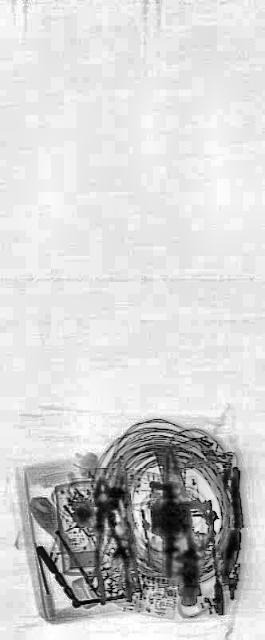Pliers: (85, 468, 131, 608)
